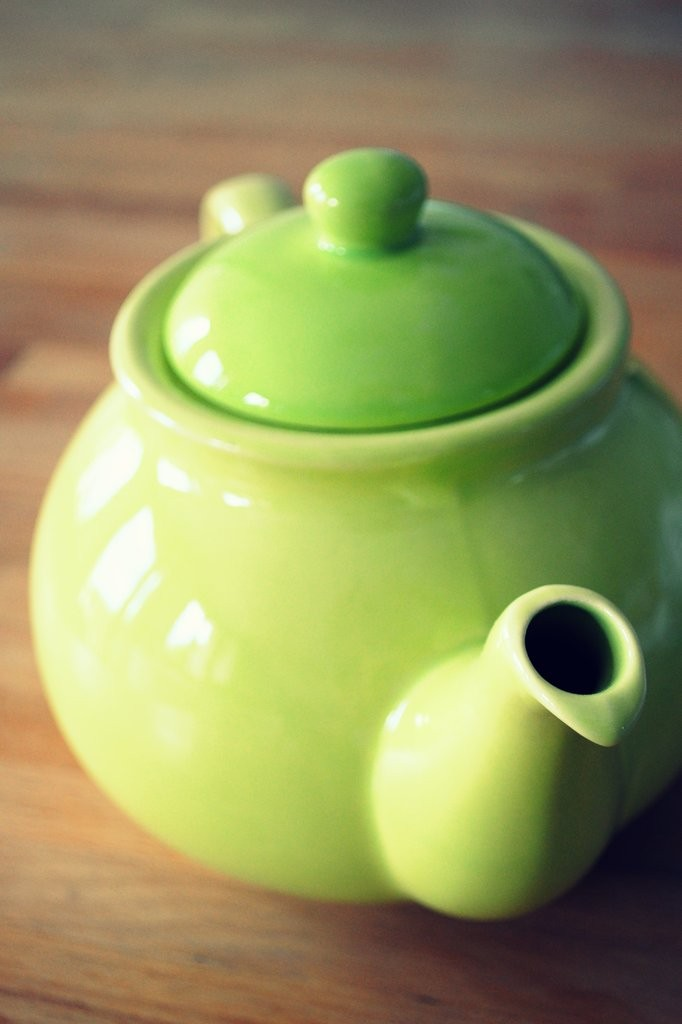teapot: (29, 147, 682, 920)
